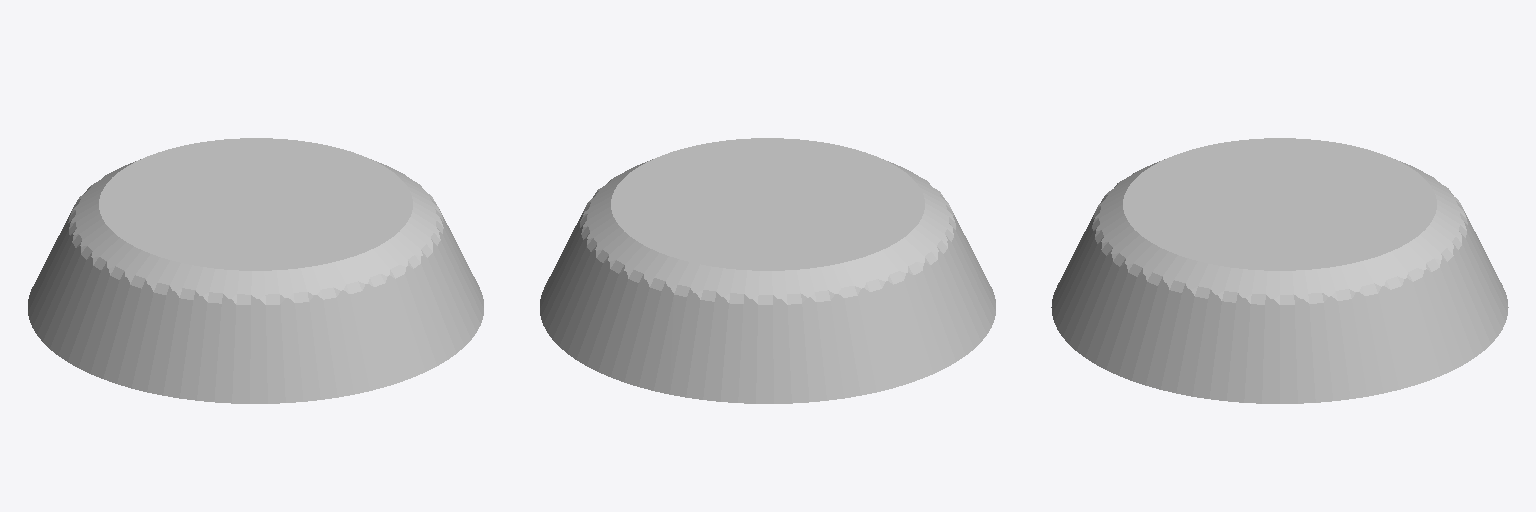
File: egg_base.obj
The picture shows the model from 3 angles: view 1: azimuth 30°, elevation 25°; view 2: azimuth 150°, elevation 25°; view 3: azimuth 270°, elevation 25°; orthographic projection.
Parts seen in each view (by area): view 1: Cylinder; view 2: Cylinder; view 3: Cylinder.
Boxes of the visible parts, box(x1,y1,x2,y2) form: Cylinder: box(28, 138, 483, 403); Cylinder: box(540, 138, 995, 403); Cylinder: box(1051, 138, 1508, 403).
Bounding box in the file's own units: 2 × 0.4972 × 2.